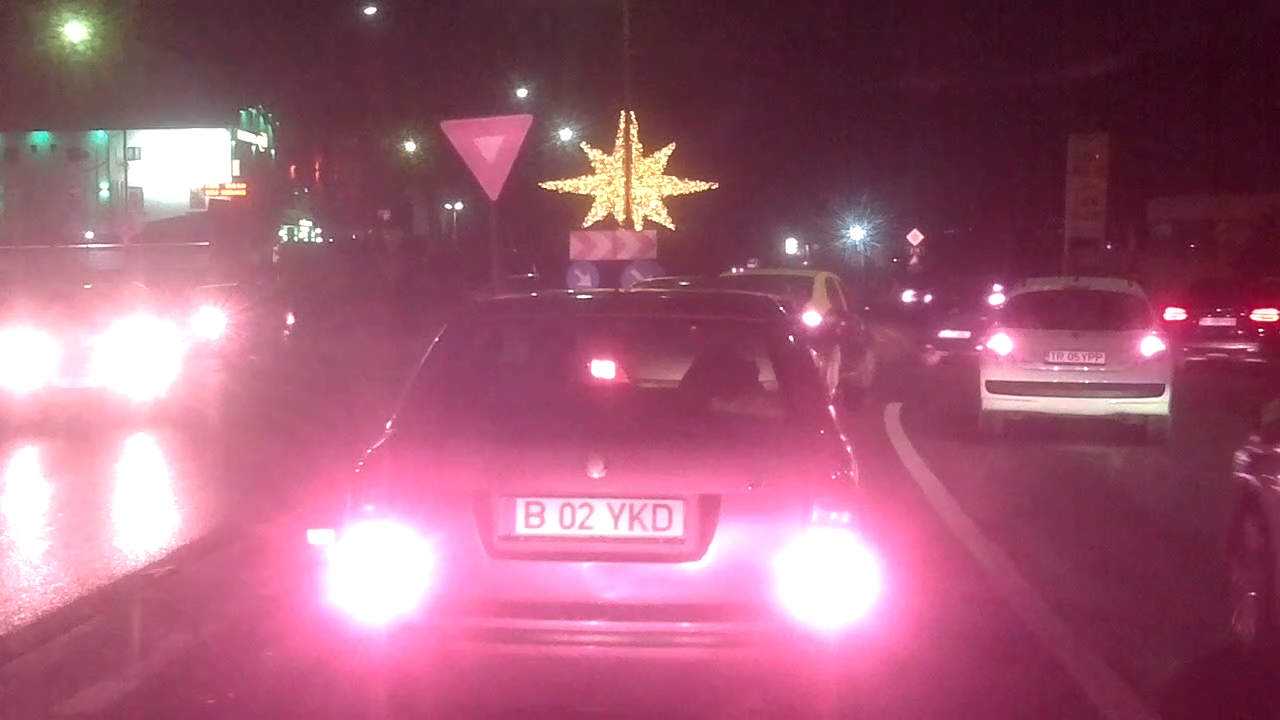license-plate: (501, 491, 691, 541), (1040, 345, 1108, 366)
